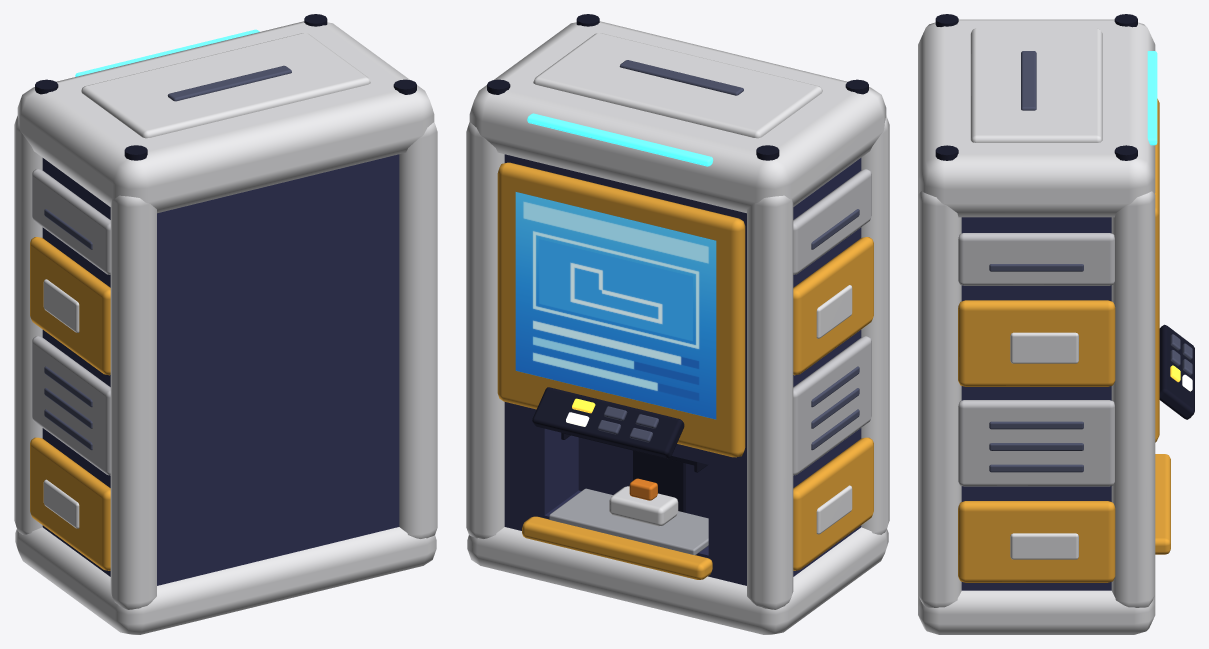
Rendered from prop.props_workrooms.fabricator.glb.
The picture shows the model from 3 angles, left to right: view 1: azimuth 30°, elevation 25°; view 2: azimuth 150°, elevation 25°; view 3: azimuth 270°, elevation 25°; orthographic projection.
Parts seen in each view (by area): view 1: prop.props_workrooms.fabricator; view 2: prop.props_workrooms.fabricator; view 3: prop.props_workrooms.fabricator.
Boxes of the visible parts, box(x1,y1,x2,y2) form: prop.props_workrooms.fabricator: box(14, 14, 437, 634); prop.props_workrooms.fabricator: box(466, 14, 889, 634); prop.props_workrooms.fabricator: box(918, 14, 1194, 634).
Size of the model in its own units: 0.712 by 1.02 by 0.5251.
13 materials, 1 textured.
